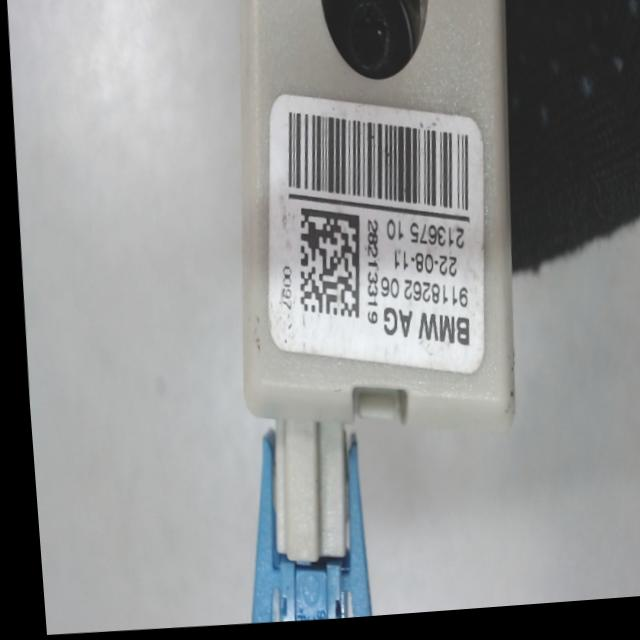datamatrix: (289, 210, 361, 326)
